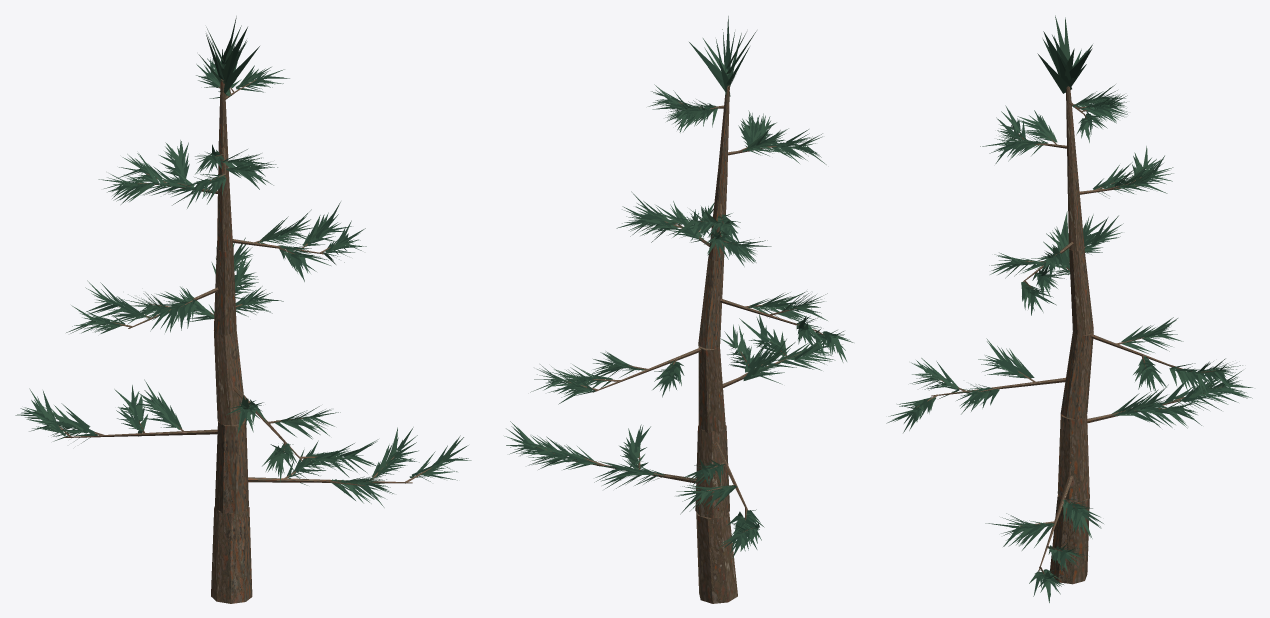
Rendered from detail_spruce_lod.glb.
3 renders of one model, left to right at view 1: azimuth 30°, elevation 25°; view 2: azimuth 150°, elevation 25°; view 3: azimuth 270°, elevation 25°, orthographic. The views are drawn at different scales.
Parts seen in each view (by area): view 1: Cone; view 2: Cone; view 3: Cone.
Part boxes in pixels (x1,y1,x2,y2): Cone: (15, 16, 471, 603); Cone: (504, 16, 853, 603); Cone: (886, 15, 1252, 602).
Size of the model in its own units: 6.07 by 8.97 by 5.5.
3 materials, 1 textured.
